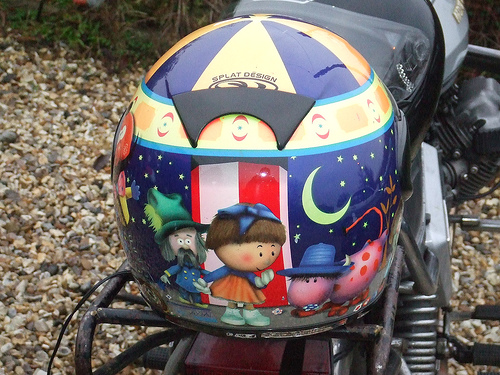helmet: (126, 29, 405, 316)
